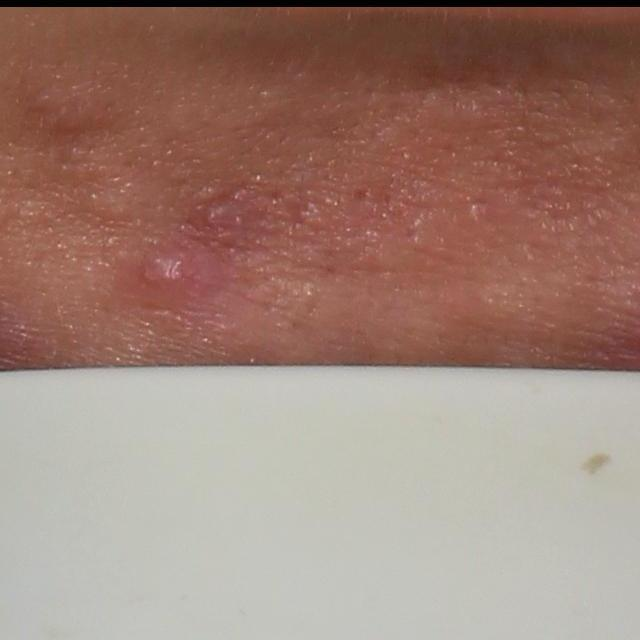hypertrophic_scar: (28, 77, 125, 138), (410, 86, 495, 134), (83, 186, 145, 223)
papule: (138, 252, 191, 288)
